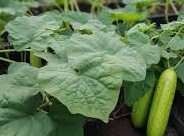cucumber: (145, 69, 178, 136)
cucumber_plant: (14, 13, 125, 120)
